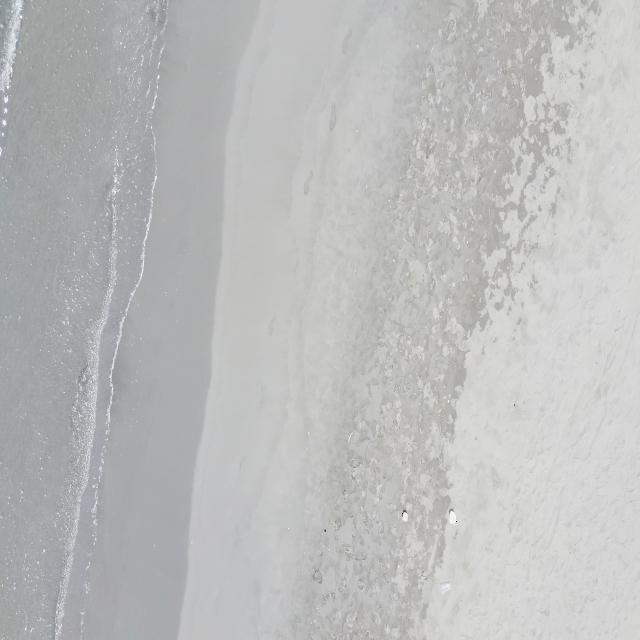take-away-containers: (440, 581, 452, 596), (450, 509, 458, 525), (402, 511, 409, 522)
